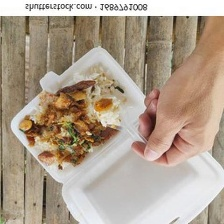foam_box: (6, 40, 223, 224)
